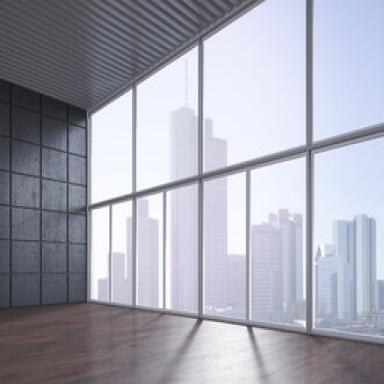glass_panel: (204, 2, 305, 168), (314, 134, 384, 340), (313, 0, 384, 142), (251, 155, 306, 330), (137, 43, 198, 189), (205, 170, 247, 324), (90, 88, 132, 203), (167, 183, 198, 314), (137, 192, 163, 310), (112, 200, 132, 305), (91, 203, 109, 302)
